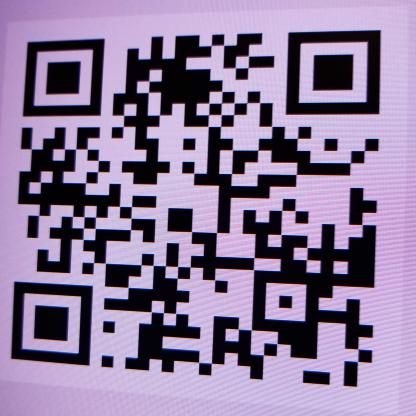qr: (8, 30, 389, 396)
